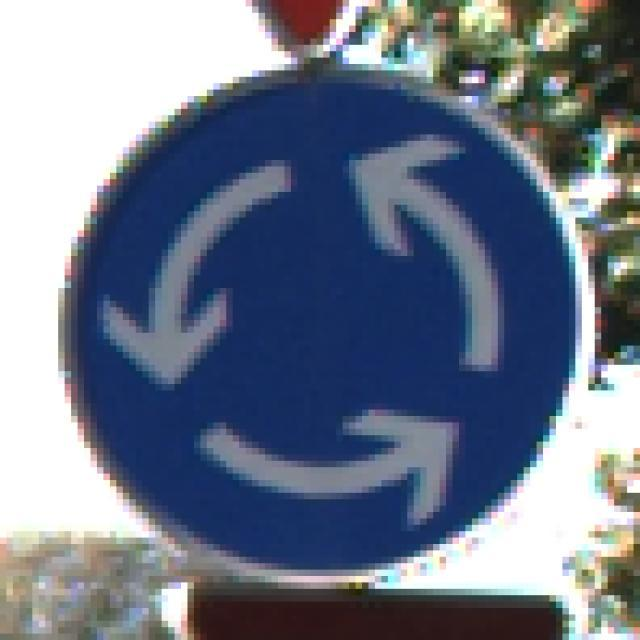roundabout: (49, 57, 599, 586)
